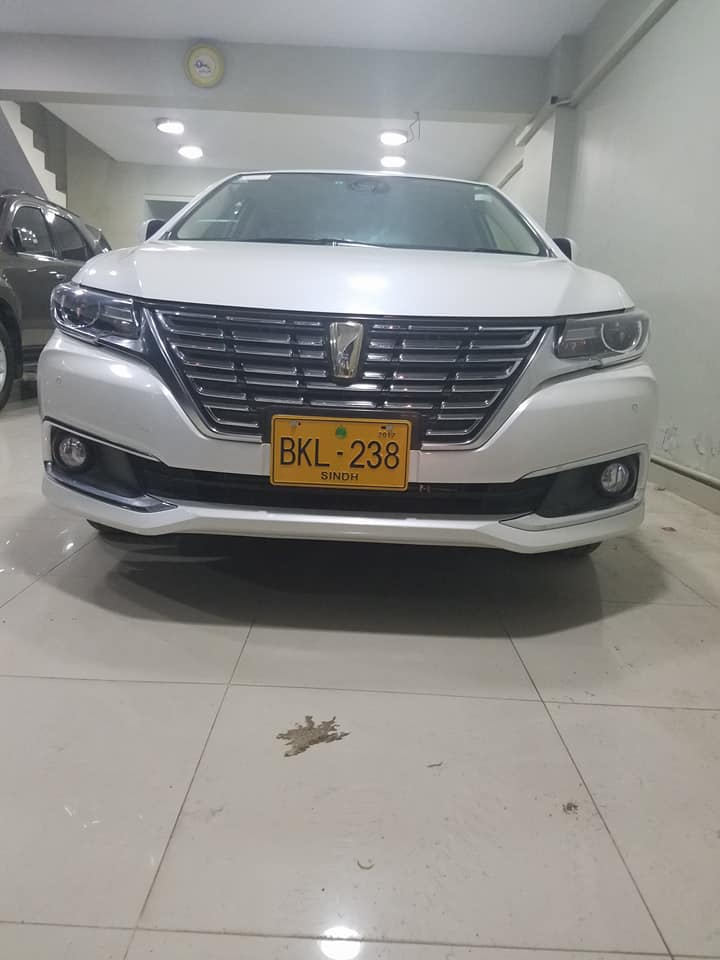license plate: (275, 418, 408, 484)
